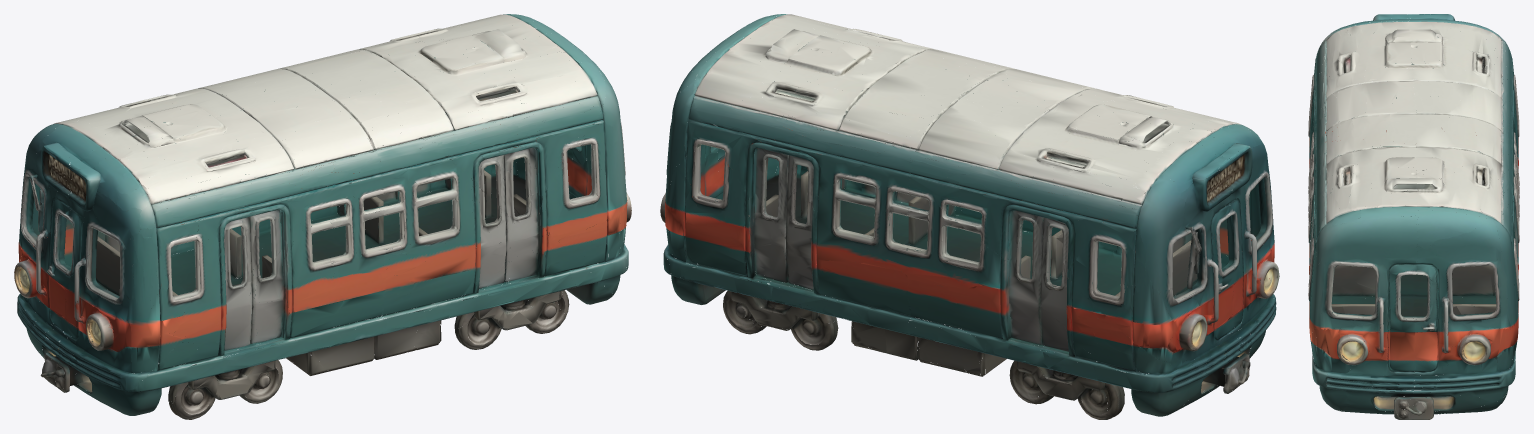
The model's file is train_ramp_or_car.glb.
3 views of the same model, side by side, from view 1: azimuth 30°, elevation 25°; view 2: azimuth 150°, elevation 25°; view 3: azimuth 270°, elevation 25° (orthographic). The views are drawn at different scales.
Visible parts, largest first — view 1: tripo_node_83c94436-c6e2-4fbb-ad55-fd24d04446ee; view 2: tripo_node_83c94436-c6e2-4fbb-ad55-fd24d04446ee; view 3: tripo_node_83c94436-c6e2-4fbb-ad55-fd24d04446ee.
Boxes of the visible parts, x1,y1,x2,y2 form: tripo_node_83c94436-c6e2-4fbb-ad55-fd24d04446ee: [14, 14, 631, 419]; tripo_node_83c94436-c6e2-4fbb-ad55-fd24d04446ee: [660, 14, 1279, 419]; tripo_node_83c94436-c6e2-4fbb-ad55-fd24d04446ee: [1308, 14, 1519, 419].
Bounding box in the file's own units: 0.9792 × 0.4386 × 0.3808.
1 material, 1 textured.
